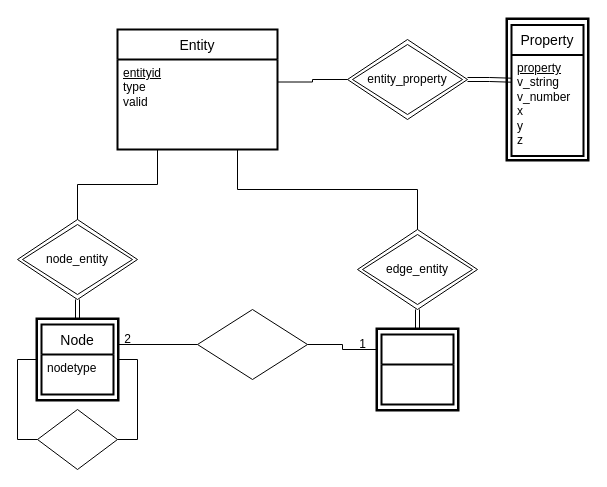
This 607x487 diagram has some shape labels left out. The centre of each missing label's shape, as x and y in pixels:
"Edge" belongs at pixel 417 369.
"node_edge" belongs at pixel 252 344.
"parent_child" belongs at pixel 77 439.
